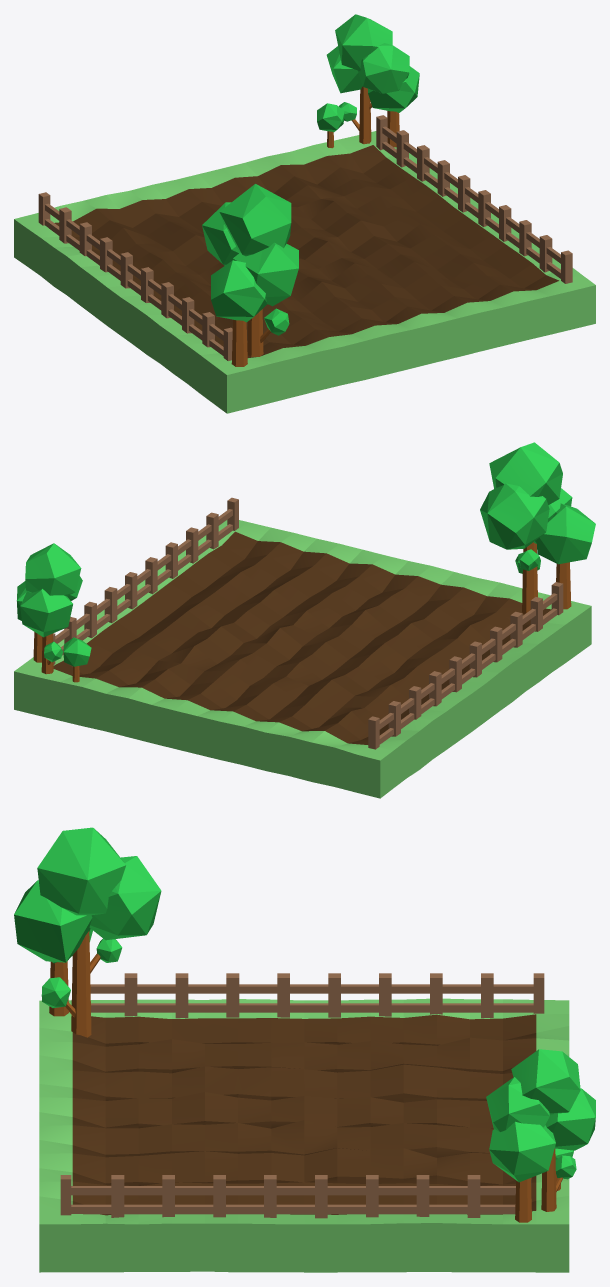
File: farmland.fbx
3 views of the same model, one above another, from view 1: azimuth 30°, elevation 25°; view 2: azimuth 150°, elevation 25°; view 3: azimuth 270°, elevation 25° (orthographic). The views are drawn at different scales.
Parts seen in each view (by area): view 1: Plane.001; view 2: Plane.001; view 3: Plane.001.
Boxes of the visible parts, left/top/right/bottom form: Plane.001: left=14, top=14, right=595, bottom=413; Plane.001: left=14, top=442, right=595, bottom=798; Plane.001: left=14, top=827, right=595, bottom=1272.
Bounding box in the file's own units: 2134 × 1047 × 2197.
